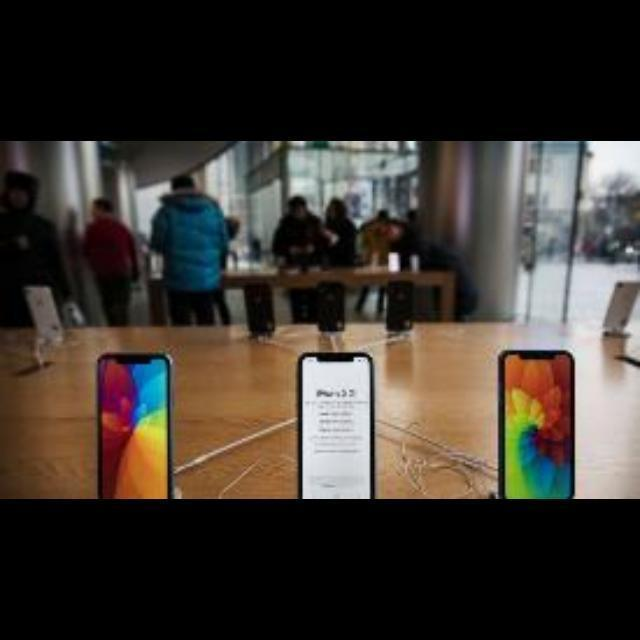phone: (492, 341, 584, 501), (88, 342, 176, 502), (295, 353, 376, 495)
